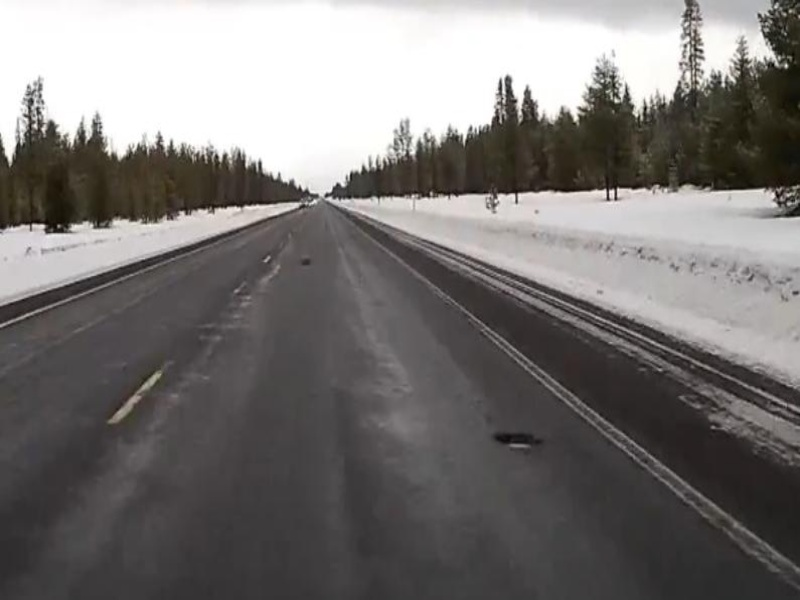pothole: (487, 429, 547, 453)
